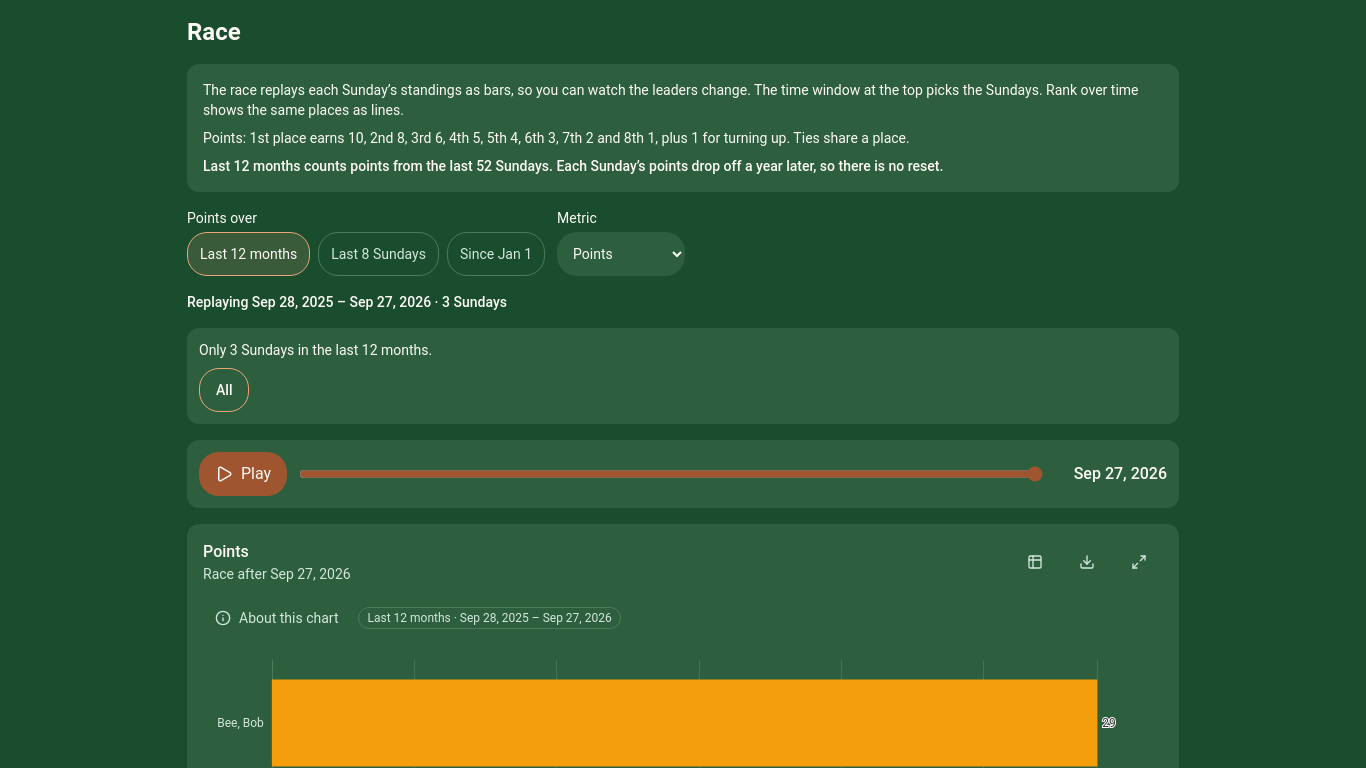
Test: RacePage › toggles between play and pause
Click the button "Play" at (243, 474), box [199,452,287,496]
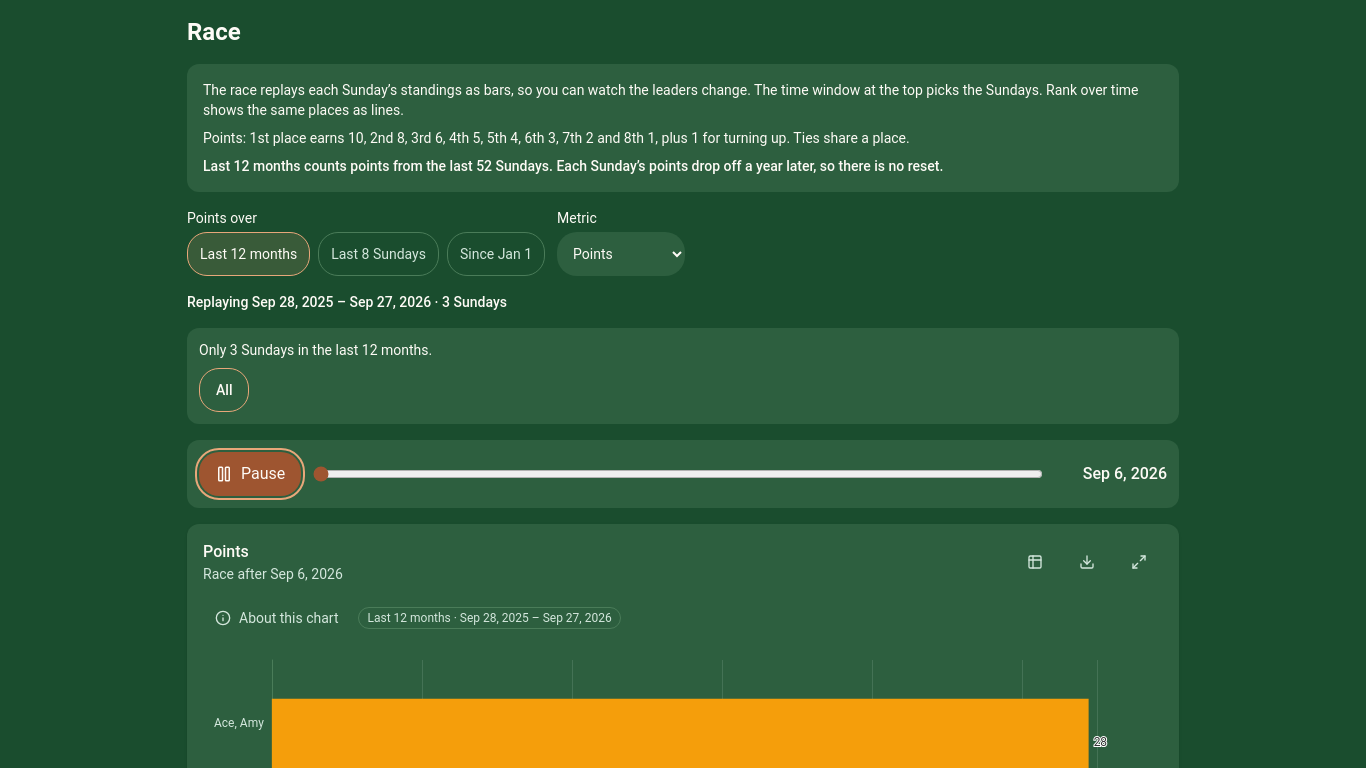
Expected: the text "Sep 6, 2026" is shown, [1083,464,1167,483]
Click the button "Pause" at (250, 474), box [199,452,301,496]
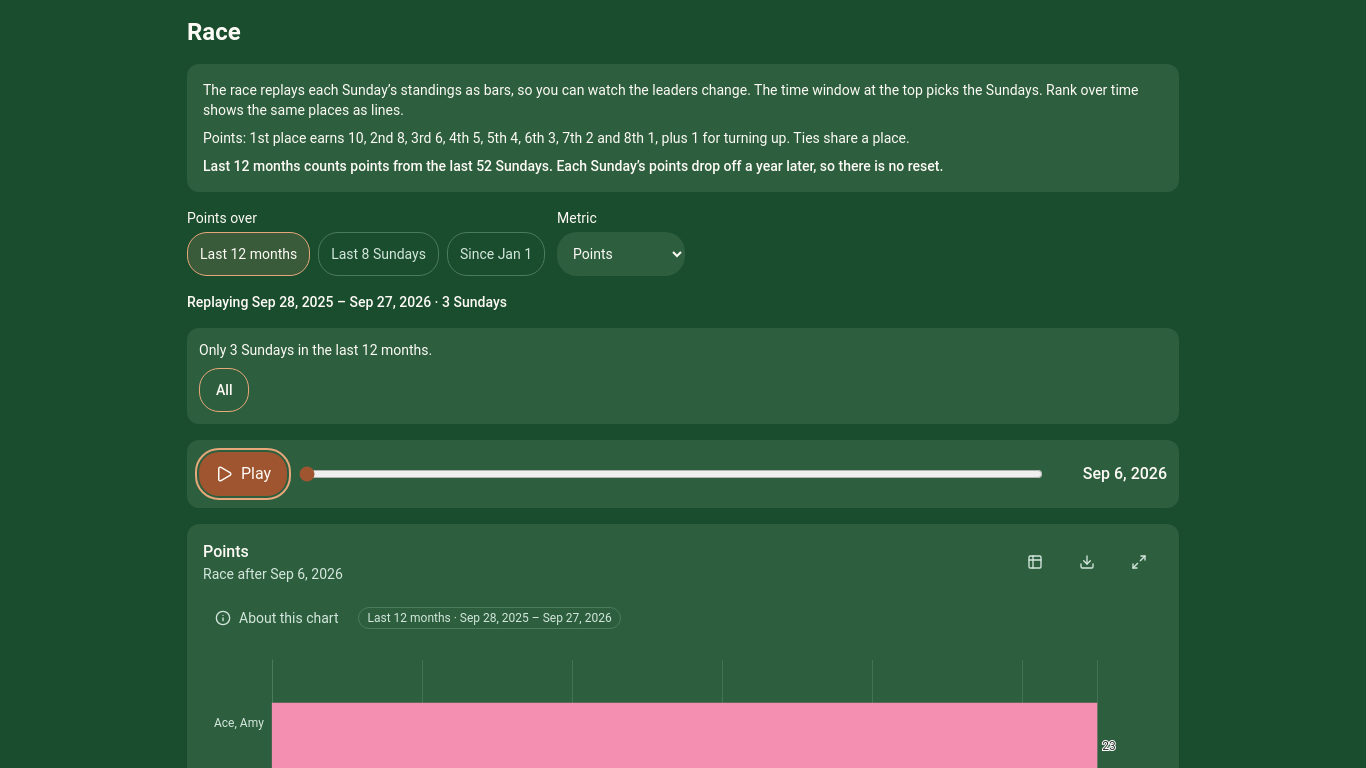
Expected: the button "Play" is shown, [199,452,287,496]
